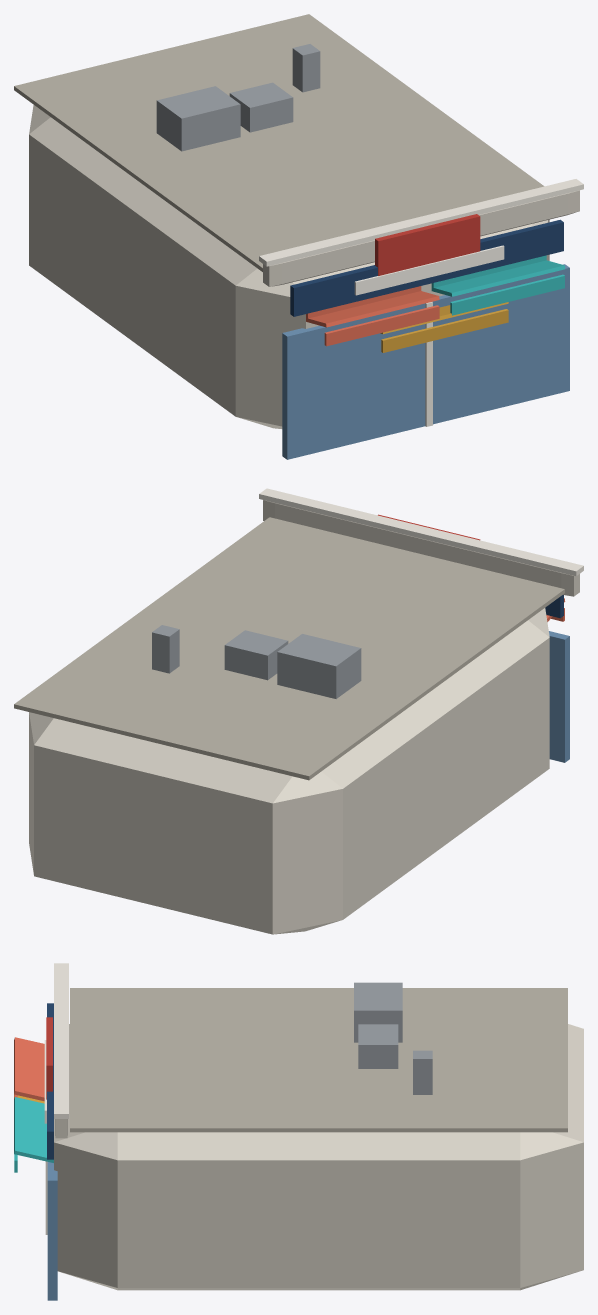
The model's file is taqueria.glb.
3 views of the same model, one above another, from view 1: azimuth 30°, elevation 25°; view 2: azimuth 150°, elevation 25°; view 3: azimuth 270°, elevation 25° (orthographic). The views are drawn at different scales.
Visible parts, largest first — view 1: roofslab, walls, shopglass, fascia, parapet, hvac, tqsign, pcap, hvac2, fasciatx, valance.002, valance (+7 smaller); view 2: walls, roofslab, parapet, hvac, pcap, shopglass, hvac2, pipe; view 3: walls, roofslab, pcap, hvac, awn.001, hvac2, awn, shopglass, pipe, fascia, tqsign.
Boxes of the visible parts, left/top/right/bottom form: roofslab: left=14, top=14, right=544, bottom=271; walls: left=29, top=105, right=549, bottom=428; shopglass: left=282, top=264, right=569, bottom=459; fascia: left=290, top=219, right=563, bottom=316; parapet: left=263, top=190, right=579, bottom=286; hvac: left=156, top=86, right=240, bottom=151; tqsign: left=375, top=214, right=480, bottom=275; pcap: left=259, top=179, right=583, bottom=266; hvac2: left=229, top=82, right=293, bottom=132; fasciatx: left=354, top=245, right=504, bottom=295; valance.002: left=381, top=309, right=508, bottom=352; valance: left=324, top=305, right=439, bottom=346; walls: left=29, top=608, right=549, bottom=934; roofslab: left=14, top=517, right=564, bottom=780; parapet: left=263, top=500, right=579, bottom=596; hvac: left=277, top=634, right=361, bottom=698; pcap: left=259, top=488, right=583, bottom=576; shopglass: left=549, top=631, right=569, bottom=762; hvac2: left=224, top=630, right=288, bottom=680; pipe: left=152, top=625, right=179, bottom=673; walls: left=54, top=1024, right=583, bottom=1290; roofslab: left=70, top=988, right=567, bottom=1132; pcap: left=54, top=963, right=68, bottom=1118; hvac: left=354, top=982, right=402, bottom=1042; awn.001: left=14, top=1097, right=53, bottom=1162; hvac2: left=358, top=1024, right=398, bottom=1068; awn: left=14, top=1037, right=44, bottom=1101; shopglass: left=47, top=1162, right=57, bottom=1300; pipe: left=413, top=1050, right=432, bottom=1094; fascia: left=47, top=1003, right=53, bottom=1159; tqsign: left=46, top=1017, right=52, bottom=1099.
Size of the model in its own units: 8.08 by 5.3 by 12.91.
